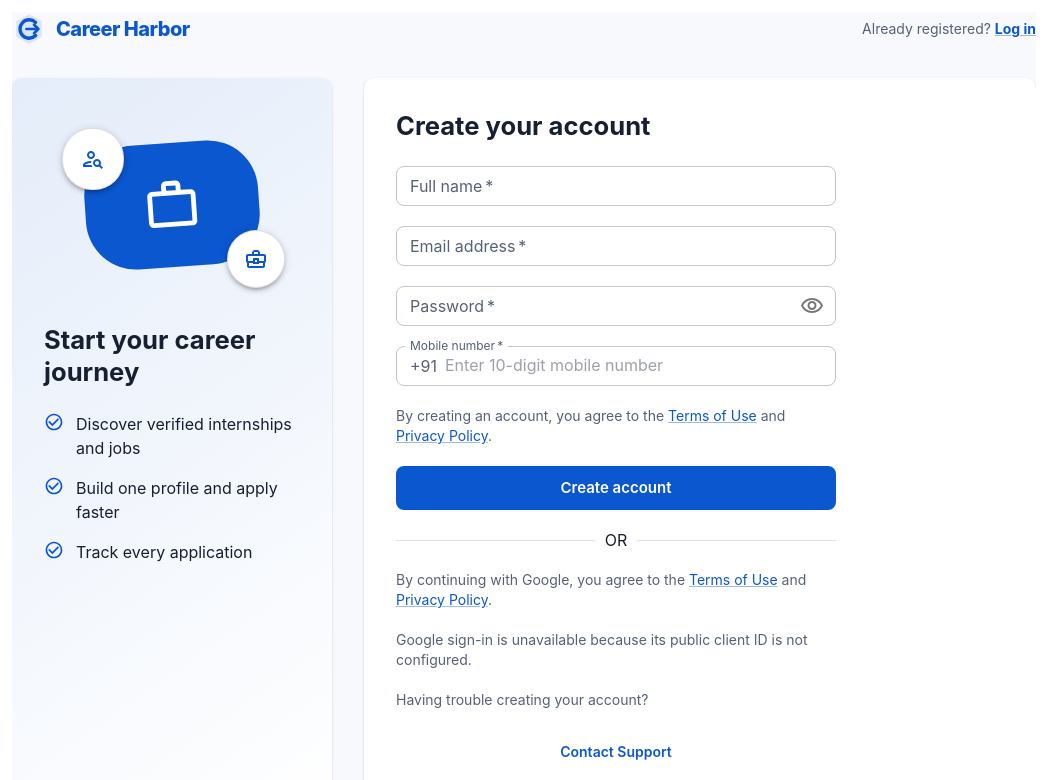
Test case: email verification flow › shows an email field error when the email is already registered
This screenshot has width=1048, height=780.
Type "Avery Patel" into the field labelled "Full name *". click: x=616, y=186
box: [396, 166, 836, 206]
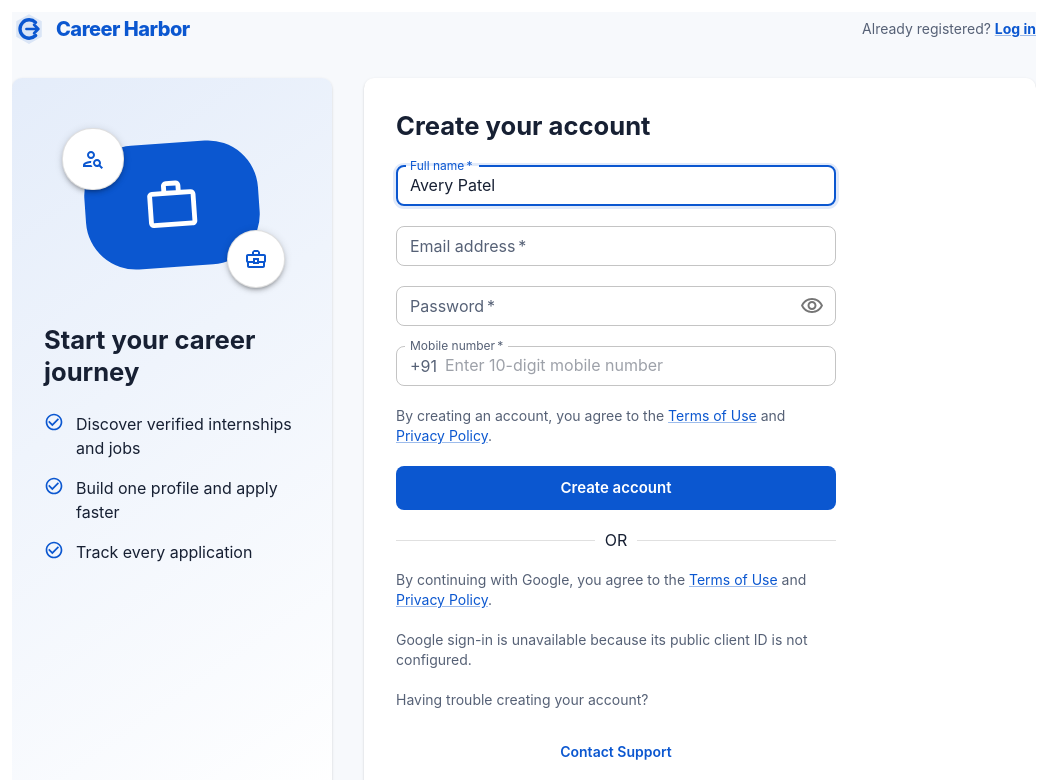
Type "candidate@example.com" into the field labelled "Email address *". click: x=616, y=246
box: [396, 226, 836, 266]
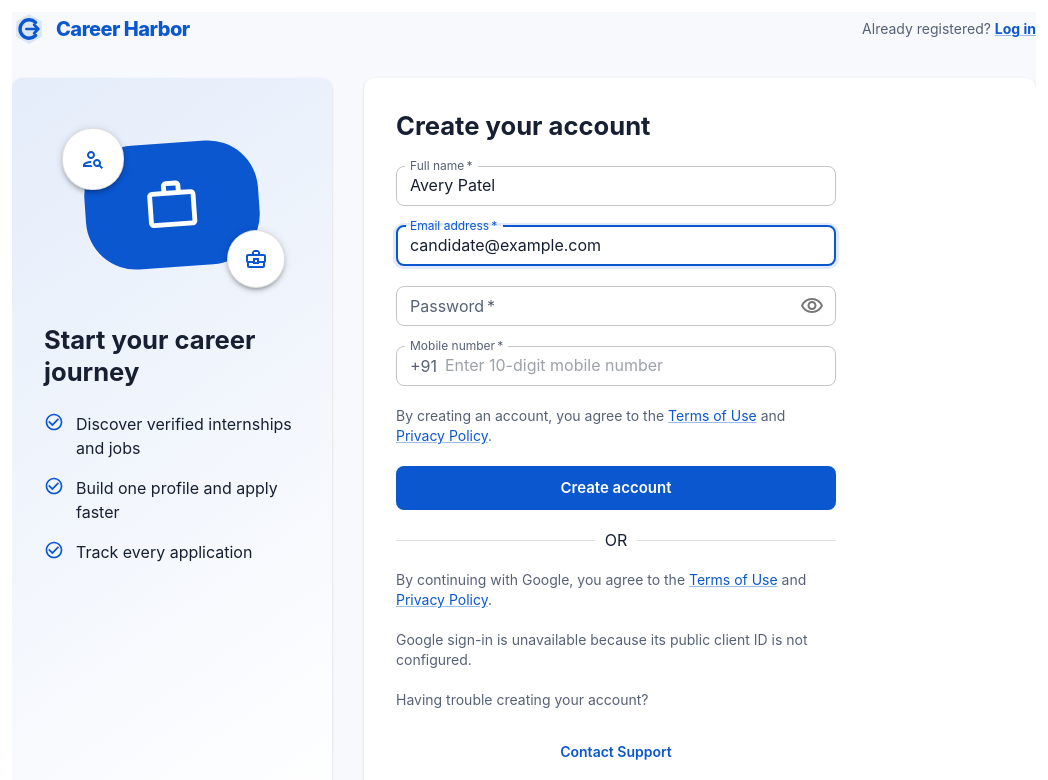
Type "abc 12!" into the password field labelled "Password *". click: x=589, y=306
box: [396, 286, 782, 326]
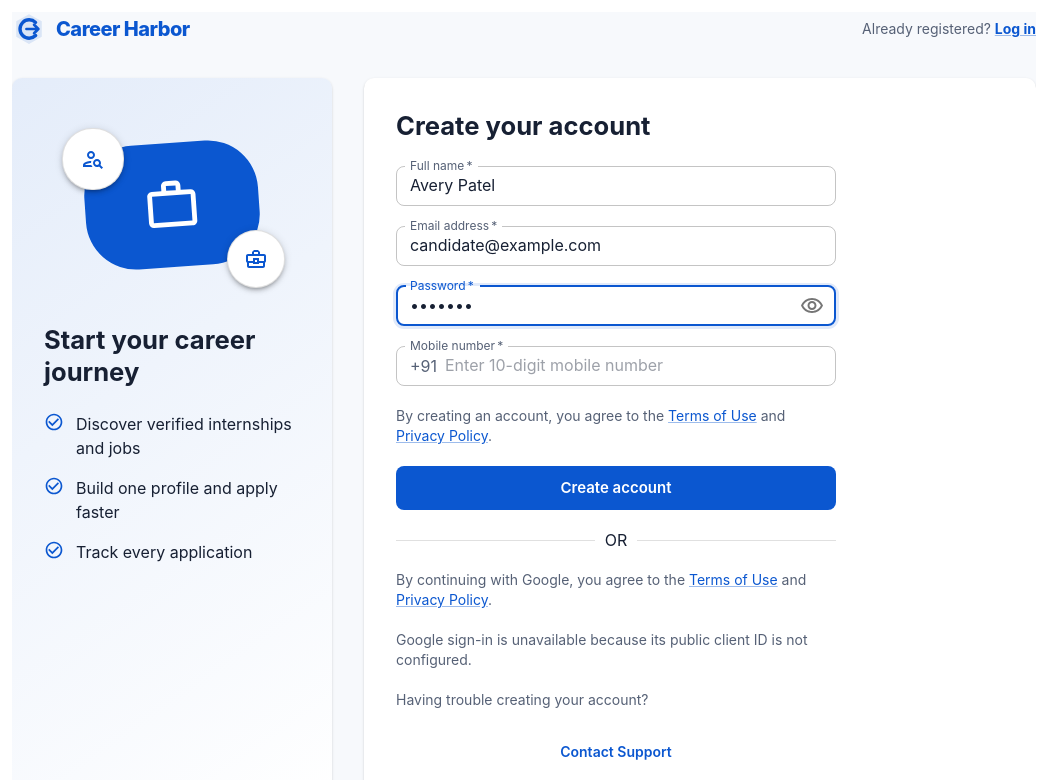
Type "9876543210" into the field labelled "Mobile number *". click: x=640, y=366
box: [445, 346, 836, 386]
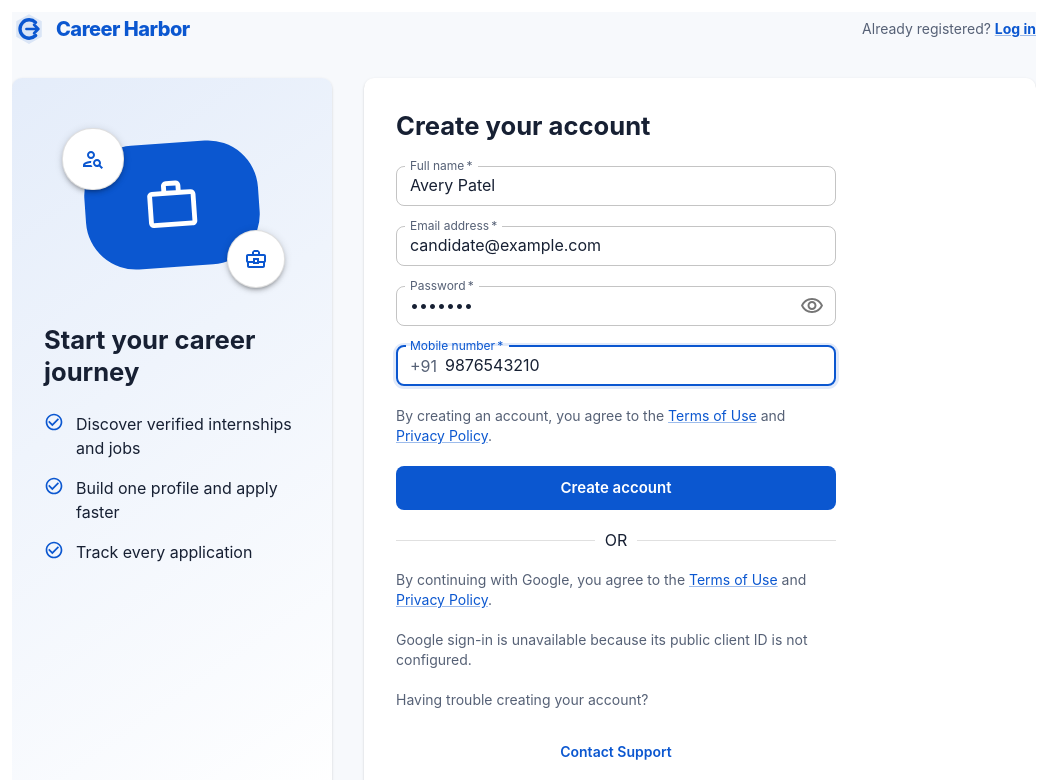
Click the button "Create account". click: x=616, y=488
box: [396, 466, 836, 510]
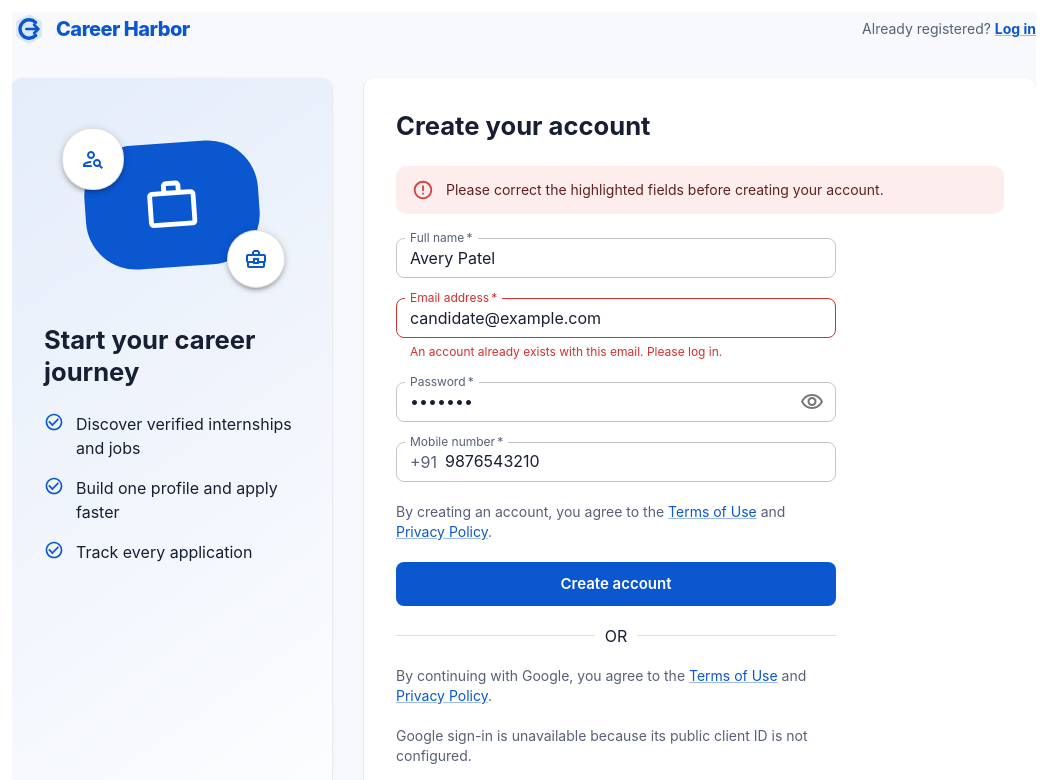
Check: the text "An account already exists with this email. Please log in." is shown, box [410, 344, 722, 359]
